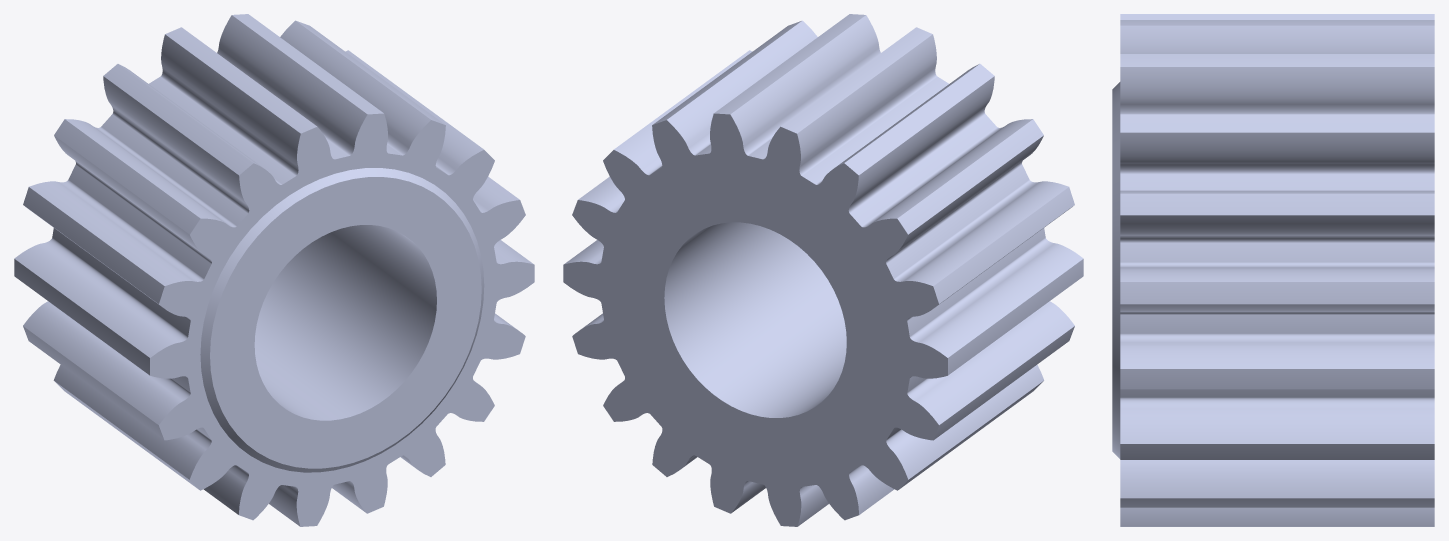
Rendered from REV_21_2101_P05_12_solid1.obj.
3 renders of one model, left to right at view 1: azimuth 30°, elevation 25°; view 2: azimuth 150°, elevation 25°; view 3: azimuth 270°, elevation 25°, orthographic. The views are drawn at different scales.
Parts seen in each view (by area): view 1: mesh23320, mesh23317, mesh23319, mesh23393, mesh23358, mesh23365, mesh23372, mesh23360, mesh23391, mesh23363, mesh23316, mesh23370 (+20 smaller); view 2: mesh23321, mesh23319, mesh23393, mesh23358, mesh23365, mesh23372, mesh23360, mesh23391, mesh23363, mesh23370, mesh23337, mesh23336 (+17 smaller); view 3: mesh23390, mesh23383, mesh23386, mesh23379, mesh23385, mesh23388, mesh23392, mesh23323, mesh23325, mesh23389, mesh23324, mesh23353 (+16 smaller).
Boxes of the visible parts, x1,y1,x2,y2 form: mesh23320: (150,113,534,526); mesh23317: (210,177,481,468); mesh23319: (254,229,436,420); mesh23393: (217,15,367,155); mesh23358: (14,237,187,357); mesh23365: (160,34,300,175); mesh23372: (23,301,190,424); mesh23360: (29,179,203,285); mesh23391: (280,20,430,155); mesh23363: (103,76,249,213); mesh23316: (200,168,484,355); mesh23370: (53,364,211,479); mesh23321: (563,113,947,526); mesh23319: (664,227,846,417); mesh23393: (730,15,880,155); mesh23358: (910,237,1083,357); mesh23365: (797,34,937,175); mesh23372: (907,301,1074,424); mesh23360: (894,179,1068,285); mesh23391: (667,20,817,155); mesh23363: (848,76,994,213); mesh23370: (886,364,1044,479); mesh23337: (897,119,1043,234); mesh23336: (844,64,994,175); mesh23390: (1120,67,1434,114); mesh23383: (1120,397,1434,443); mesh23386: (1120,132,1434,174); mesh23379: (1120,460,1434,498); mesh23385: (1120,333,1434,368); mesh23388: (1120,215,1434,243); mesh23392: (1120,25,1434,53); mesh23323: (1120,193,1434,215); mesh23325: (1120,282,1434,304); mesh23389: (1120,262,1434,281); mesh23324: (1120,114,1434,132); mesh23353: (1120,315,1434,333).
Size of the model in its own units: 0.0127 by 0.0126 by 0.008.
